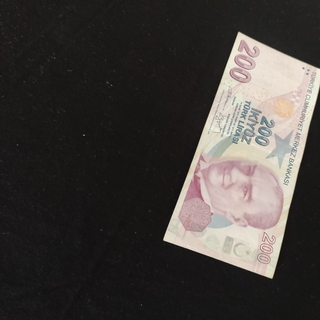200TLFront: (162, 31, 320, 279)
